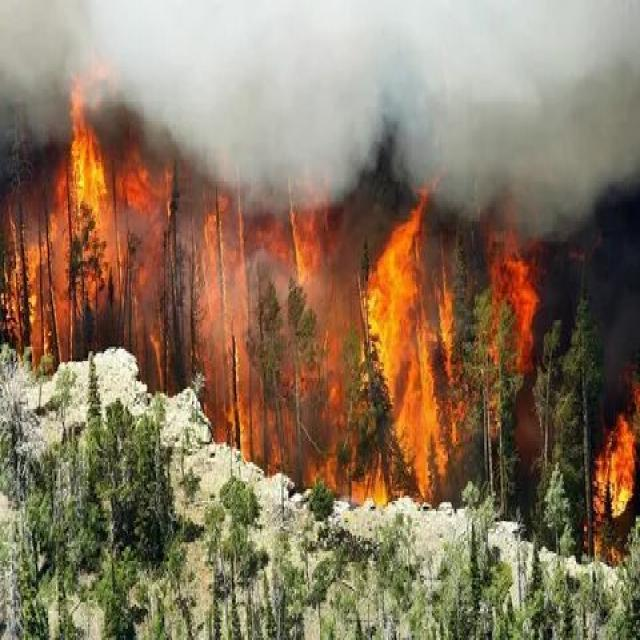Fire: (341, 173, 528, 537), (18, 71, 198, 370), (565, 341, 640, 580)
Smoke: (33, 0, 640, 148)
